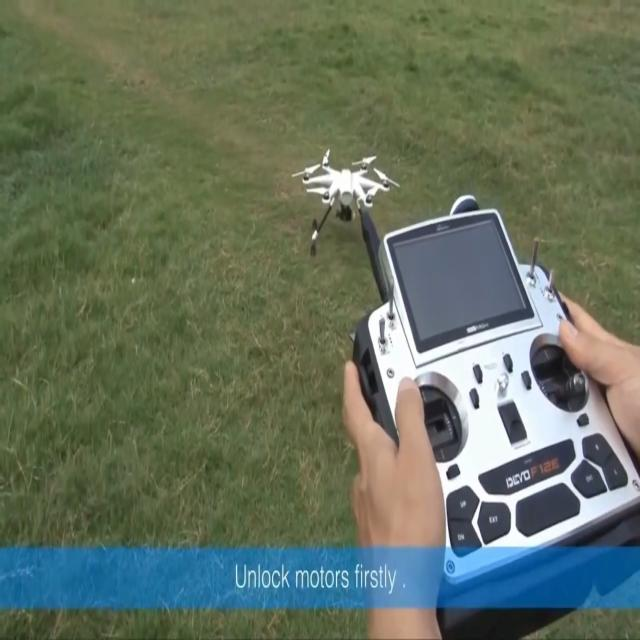drone: (291, 146, 400, 256)
